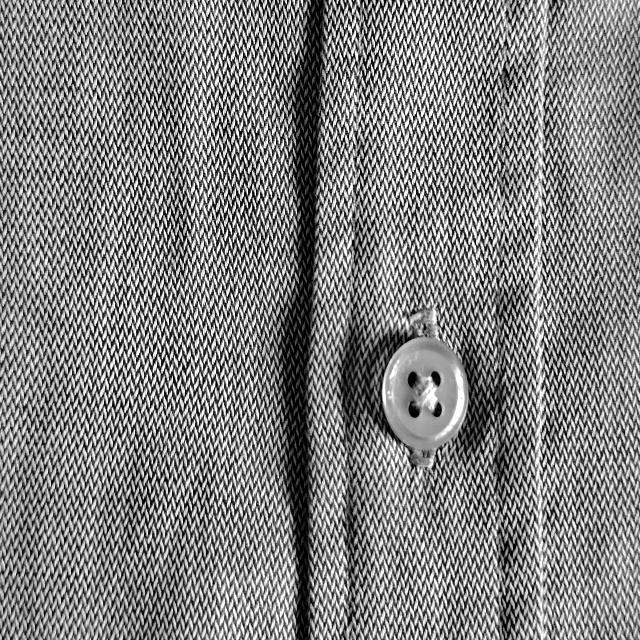Button_hike: (368, 246, 476, 345), (420, 289, 428, 361)
